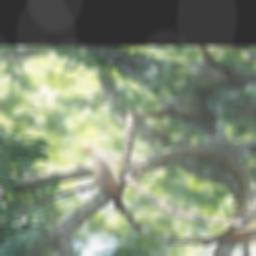Cuckoo: (40, 141, 189, 238)
